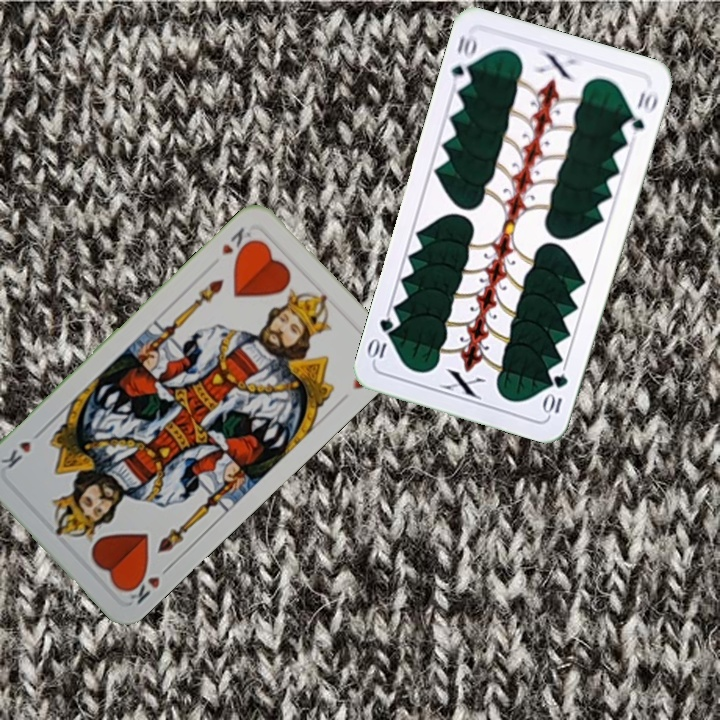G10: (447, 31, 480, 91), (540, 370, 571, 418)
HK: (121, 560, 175, 607), (217, 223, 257, 262)
